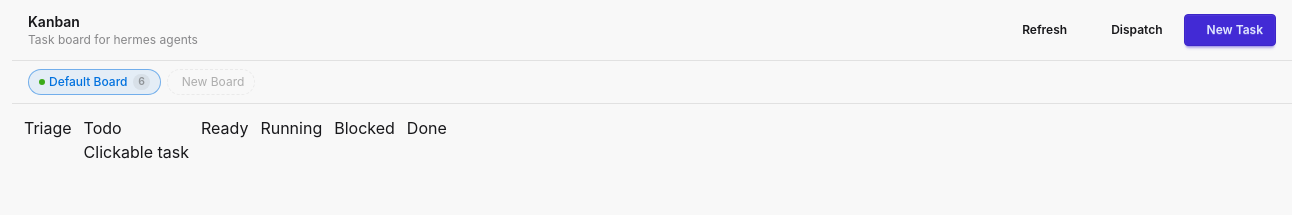
Test case: KanbanBoard.vue › should show detail drawer when a task is clicked
Click the text with class "kanban-card-stub": (136, 152) left=84, top=140, right=189, bottom=164
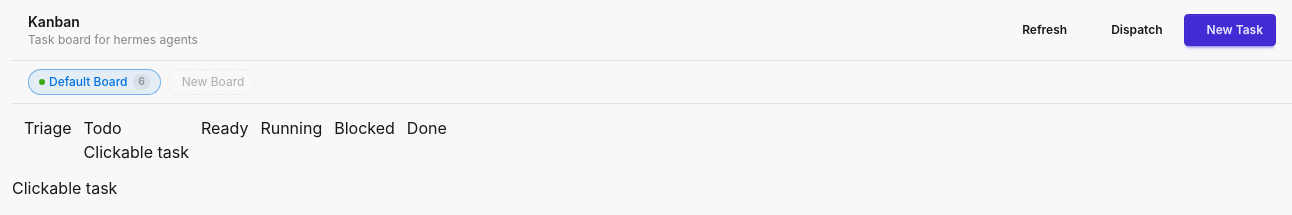
Check: the text with class "task-detail-drawer-stub" is shown, box left=12, top=178, right=117, bottom=198
